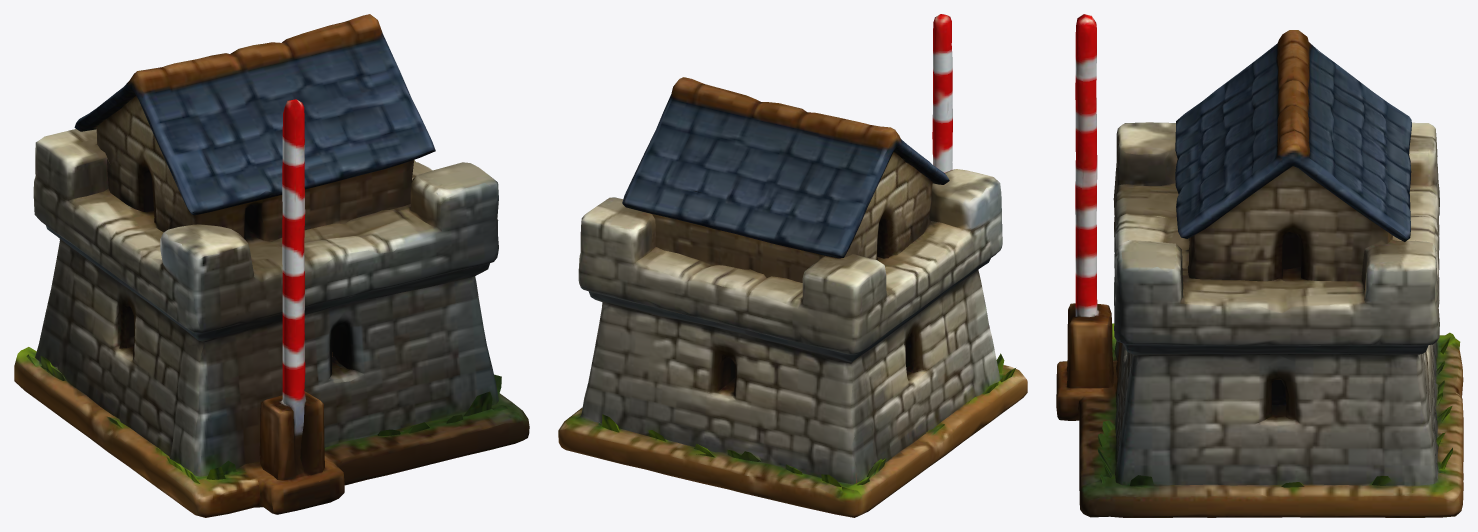
Rendered from blockhouse_b.glb.
3 views of the same model, side by side, from view 1: azimuth 30°, elevation 25°; view 2: azimuth 150°, elevation 25°; view 3: azimuth 270°, elevation 25° (orthographic). The views are drawn at different scales.
Visible parts, largest first — view 1: world; view 2: world; view 3: world.
Part boxes in pixels (<box>): world: <box>14,14,529,517</box>; world: <box>558,14,1027,517</box>; world: <box>1056,14,1463,517</box>.
Size of the model in its own units: 0.881 by 1 by 0.9458.
1 material, 1 textured.
